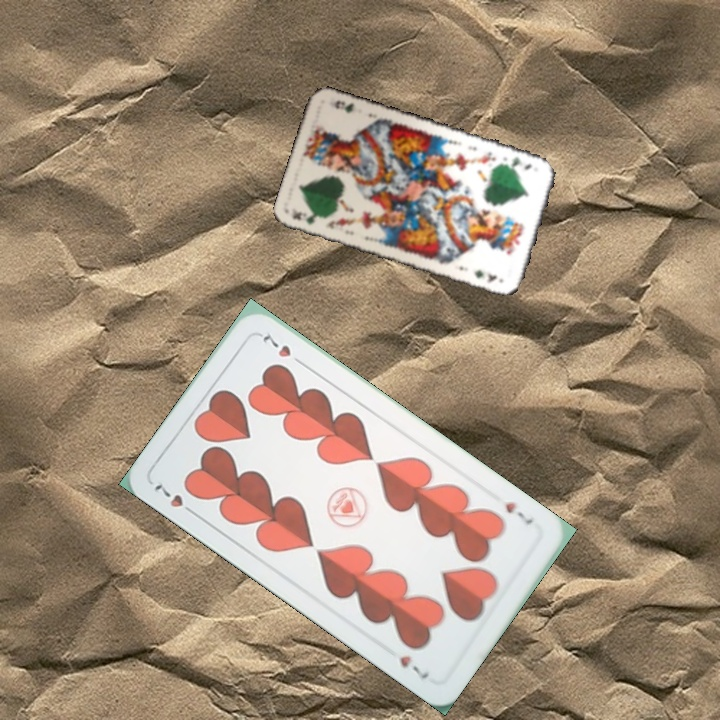GK: (287, 206, 319, 226), (507, 153, 534, 172)
H7: (149, 476, 200, 519), (501, 497, 536, 528)
